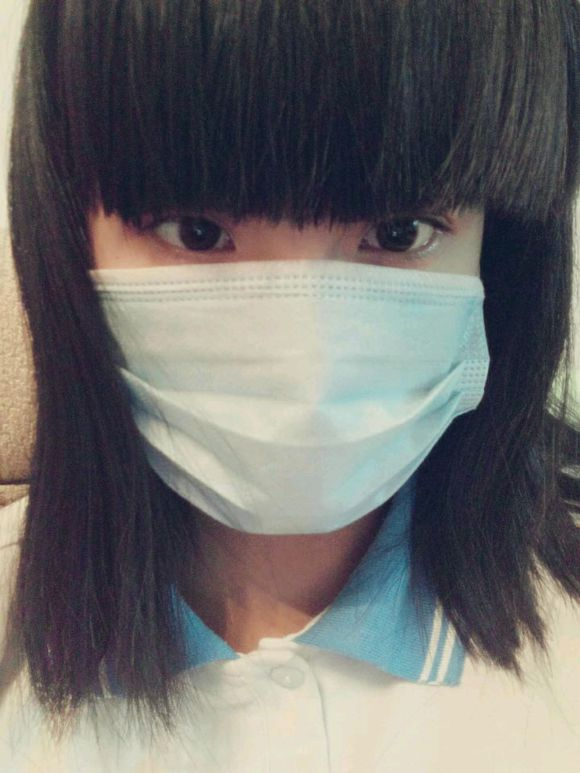face_mask: (93, 1, 499, 528)
